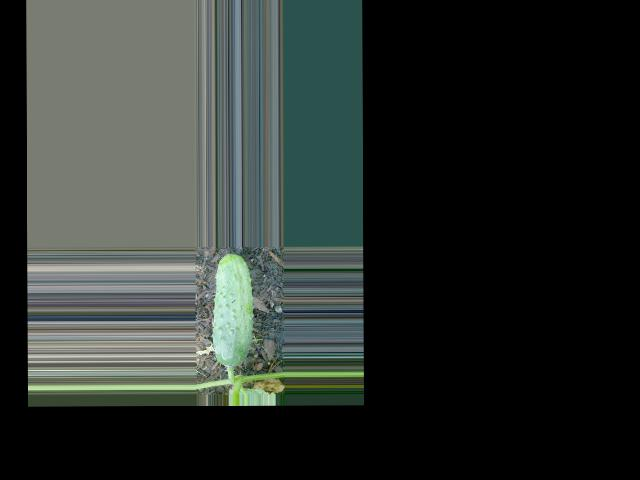cucumber: (212, 253, 253, 366)
